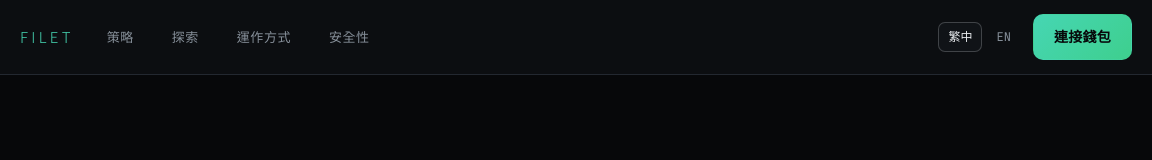
Scenario: Header — 語言切換 › 點擊 EN 後 nav 字串變英文；點回繁中變回中文
The image size is (1152, 160).
Click the button "EN".
click(1004, 37)  # box [986, 22, 1021, 52]
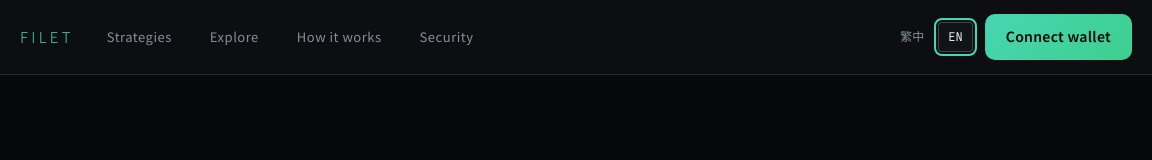
Expected: the button "Connect wallet" is shown, [985, 14, 1132, 60]
Click the button "繁中".
click(912, 37)  # box [890, 22, 934, 52]
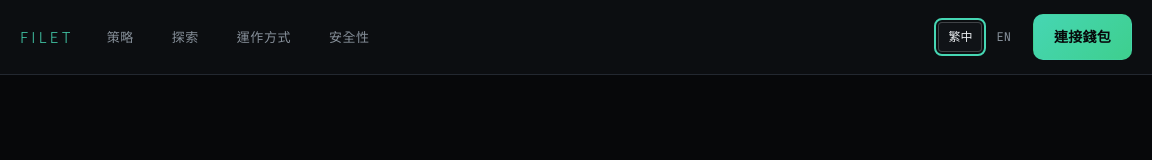
Expected: the navigation bar named "頁面切換" is shown, [107, 27, 370, 46]
